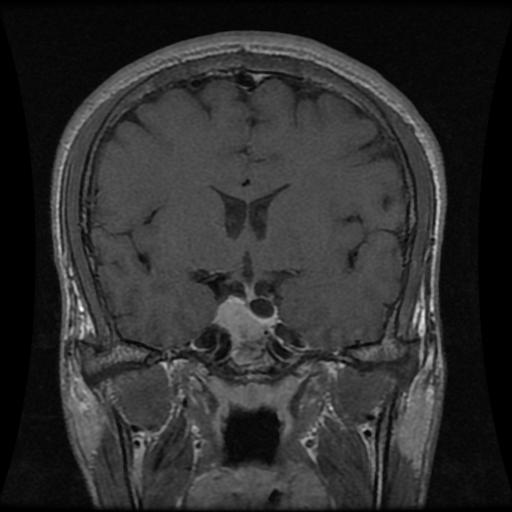Pituirity_tumour: (216, 296, 264, 342)
